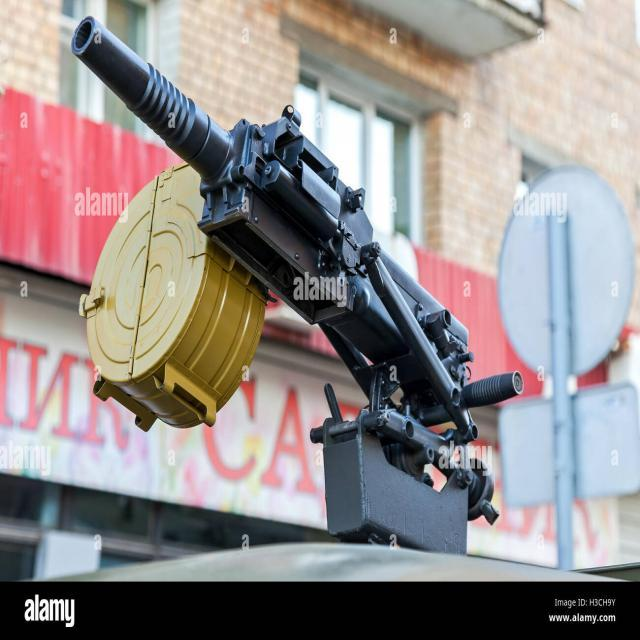machine gun: (64, 9, 543, 558)
